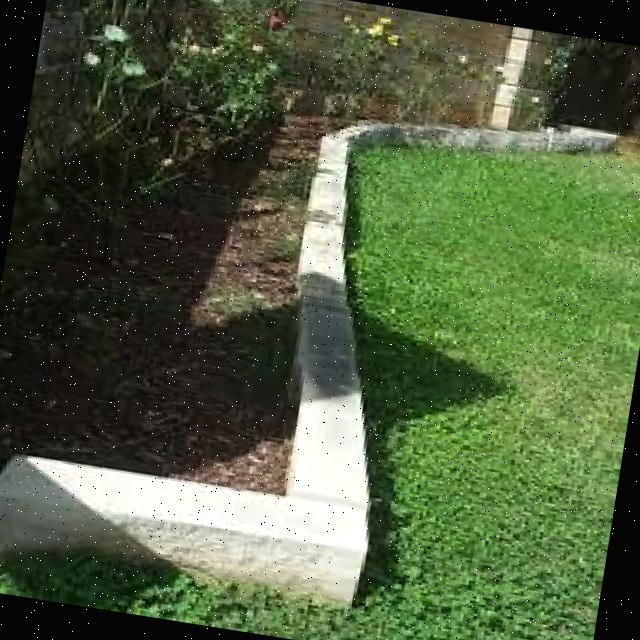curb: (1, 455, 374, 609), (280, 370, 380, 504), (364, 118, 617, 158), (304, 137, 364, 284), (300, 301, 364, 370)
